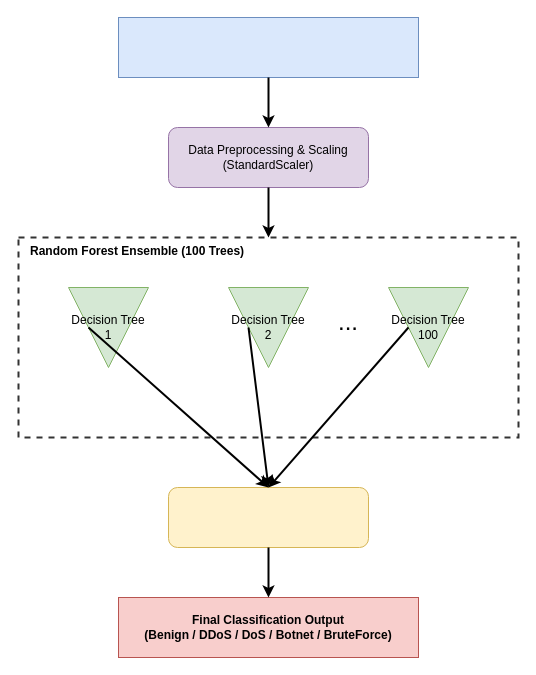
Image size: 536x675. Some labels were removed from this diagram. The centre of each missing label's shape, as x and y in pixels:
Majority Voting / Aggregation: (268,517)
Network Traffic Packets (Features: Inter-Arrival Time, Length, etc.): (268,47)
